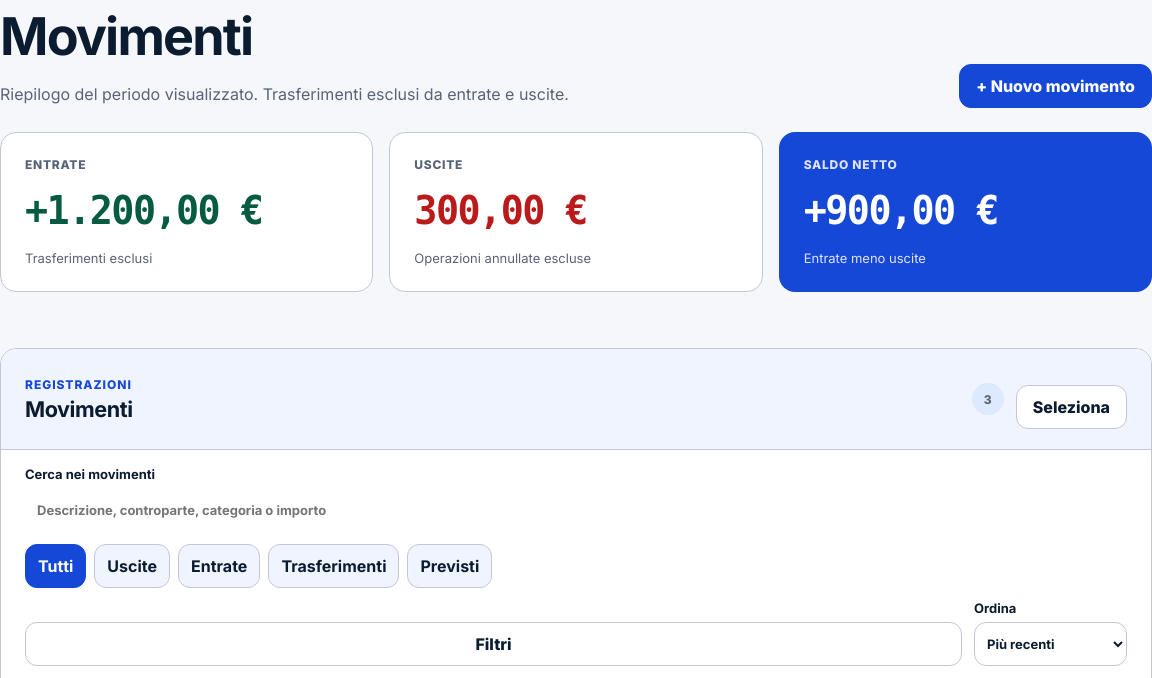
Test: TransactionsPage › updates the KPI for the selected month
This screenshot has width=1152, height=678.
Step 1. Click the button "Filtri" → x=494, y=644, box [25,622,962,666]
(page scrolled)
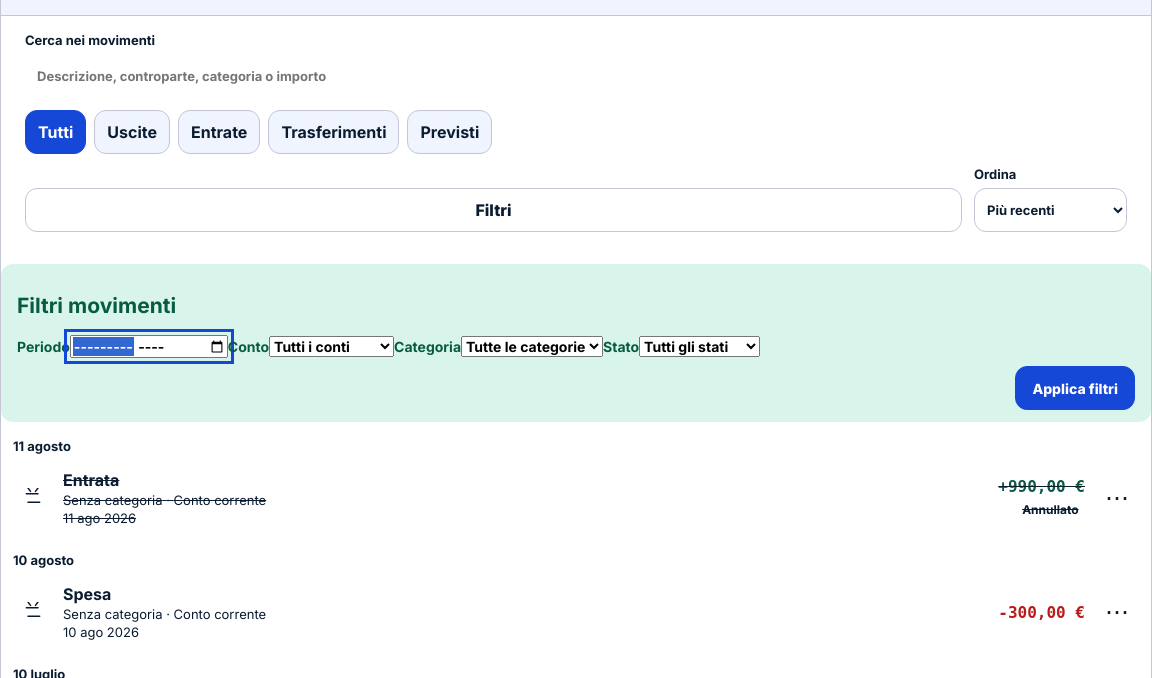
Step 2. Type "2026-08" into the field labelled "Periodo" → x=149, y=347, box [70,335,228,358]
(page scrolled)
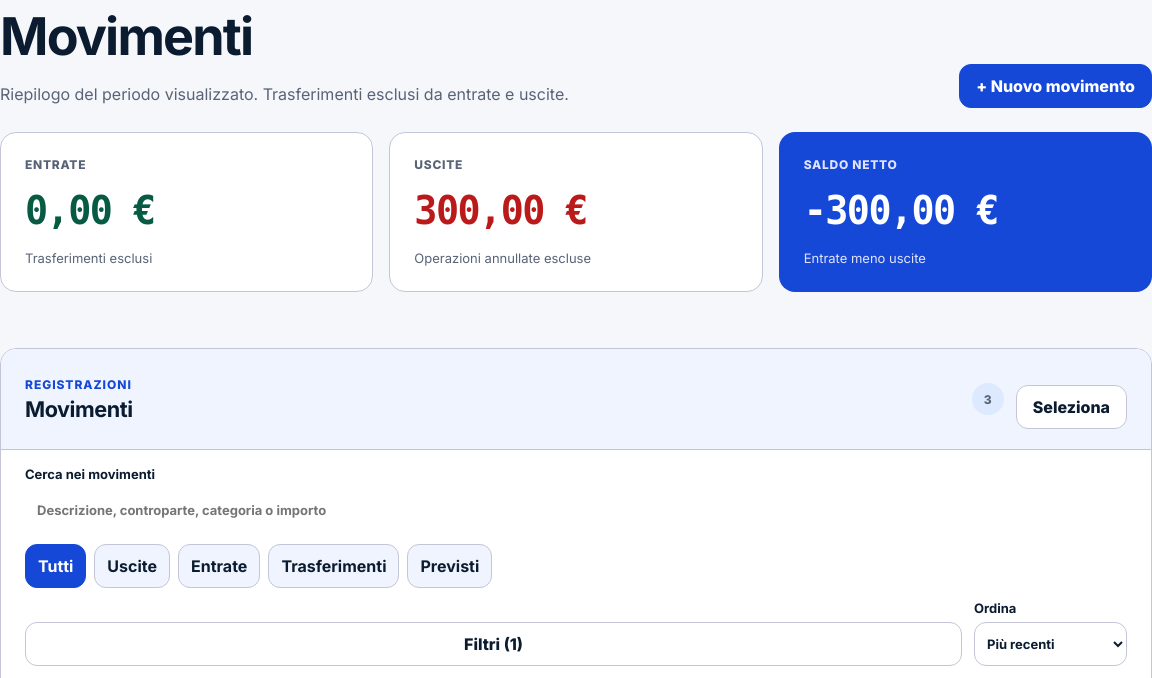
expect the text "Entrate" shows "0,00": met, box [25,188,154,232]
expect the text "Saldo netto" shows "300": met, box [804,188,998,232]
